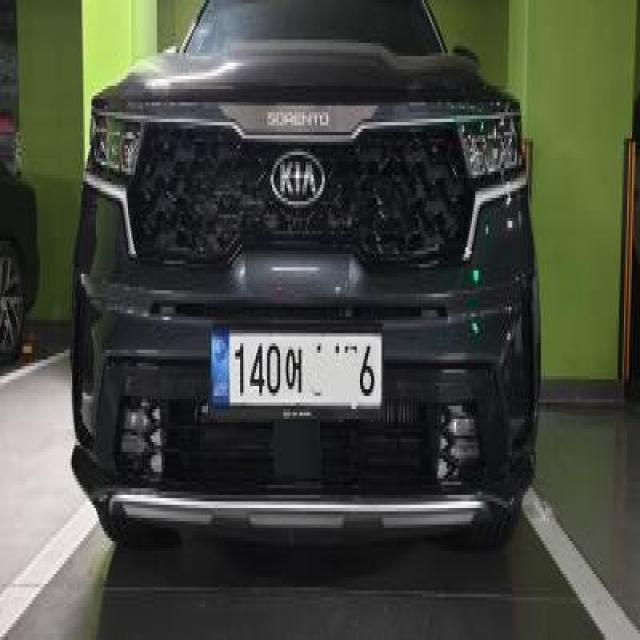car: (64, 0, 548, 595)
illegal_plate: (212, 325, 386, 418)
